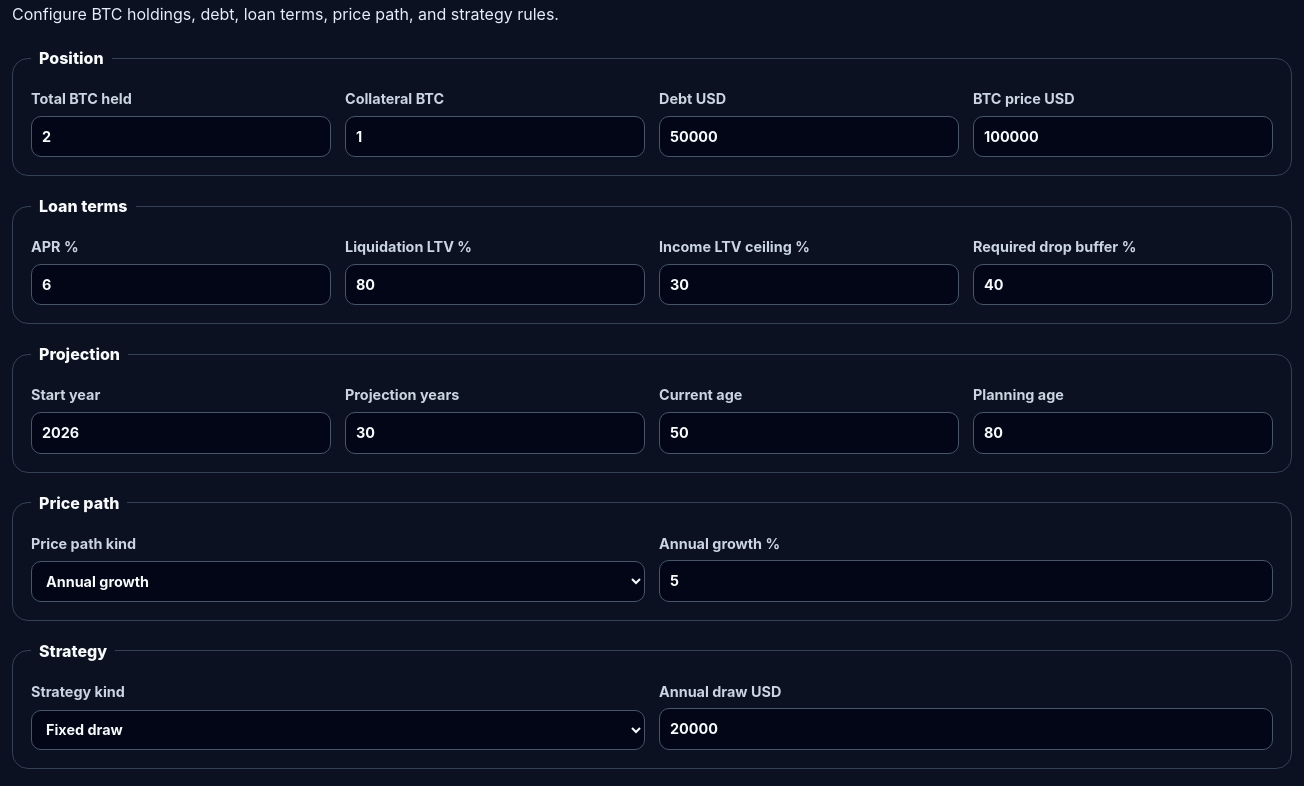
it: StrategyPage › switching strategy kind changes visible strategy-specific fields
Select "ARVA guardrails" in the dropdown labelled "Strategy kind" at [338, 730], box [31,710,645,750]
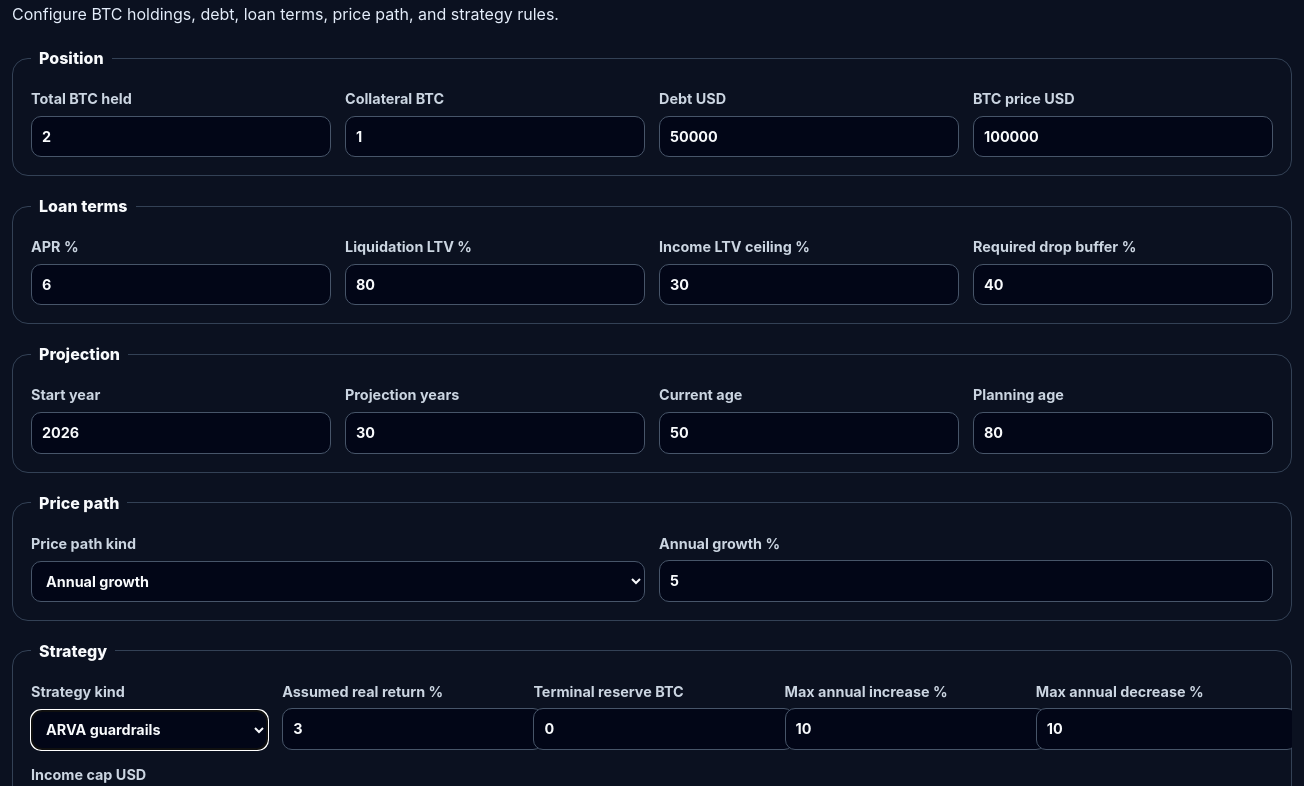
expect the text labelled "Annual draw USD" is gone: met
expect the number field labelled "Assumed real return %" holds "3": met, box [282,708,543,750]
expect the number field labelled "Terminal reserve BTC" holds "0": met, box [533,708,794,750]
Select "Max safe capacity" in the dropdown labelled "Strategy kind" at [150, 730], box [31,710,268,750]
(page scrolled)
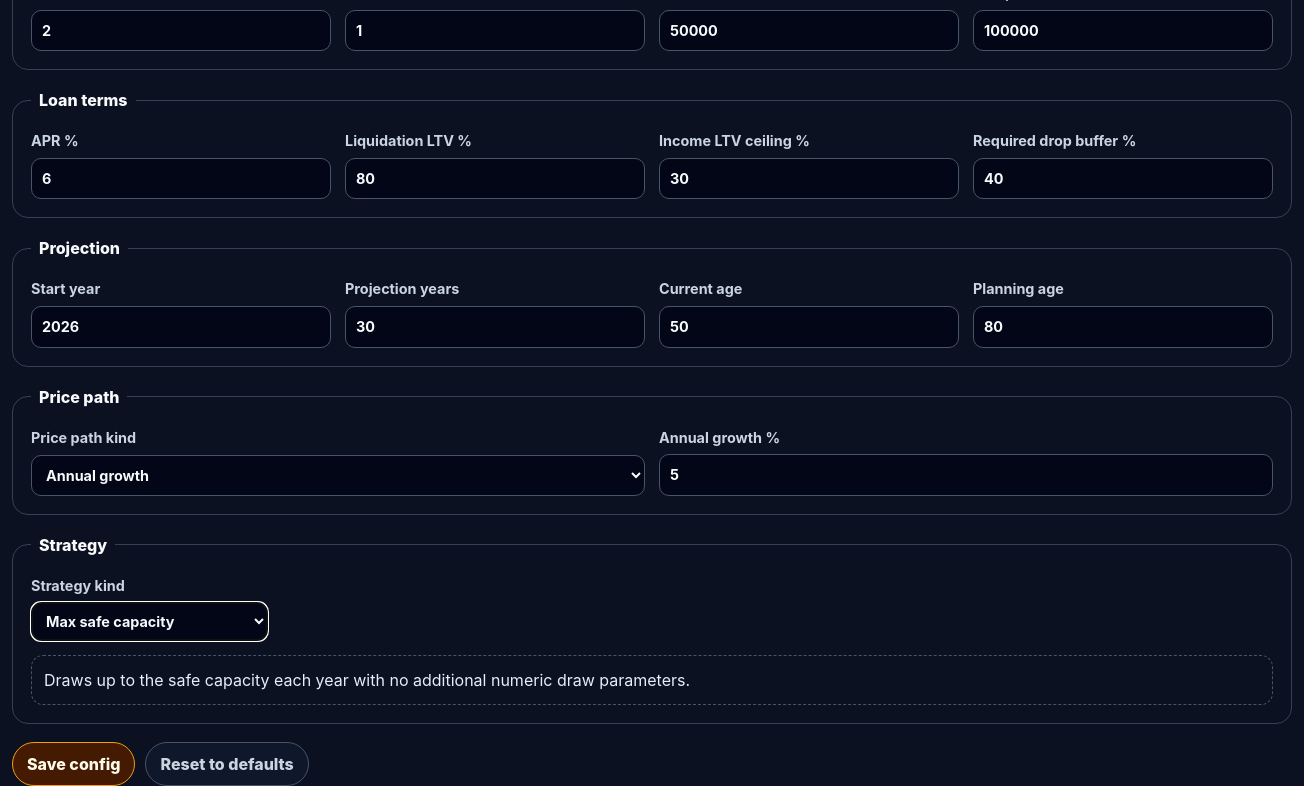
expect the text labelled "Annual draw USD" is not shown: met
expect the text labelled "Assumed real return %" is gone: met
expect the text "Draws up to the safe capacity" is shown: met, box [44,670,690,690]
